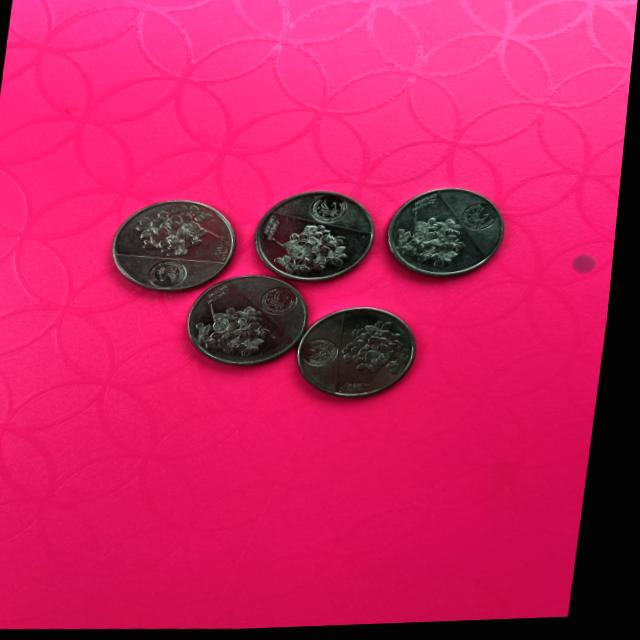1_New_Back: (185, 304, 274, 365), (341, 320, 414, 388), (270, 225, 351, 279), (134, 207, 223, 256), (395, 211, 463, 270)
